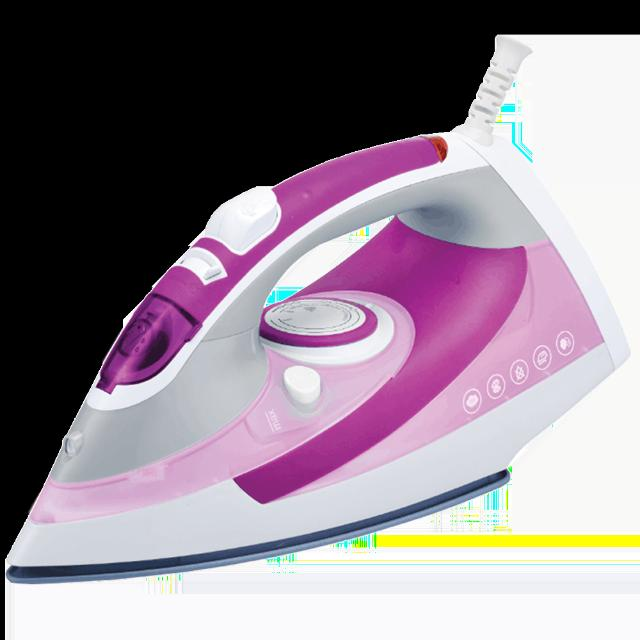Clothes-Iron: (4, 115, 636, 597)
